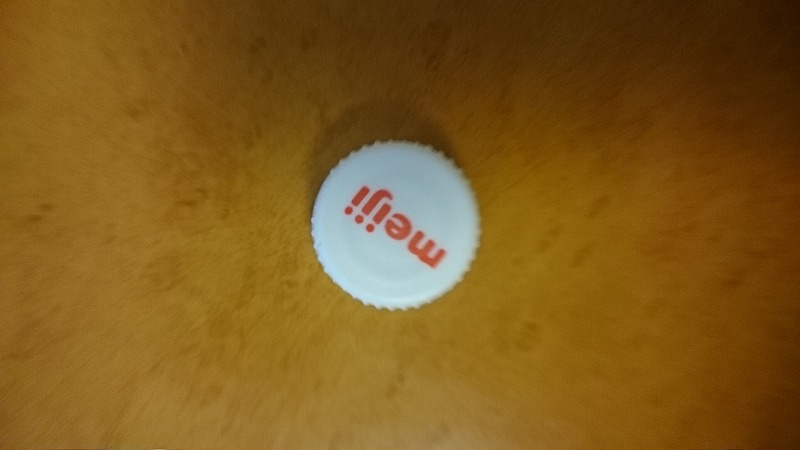B: (302, 131, 496, 316)
